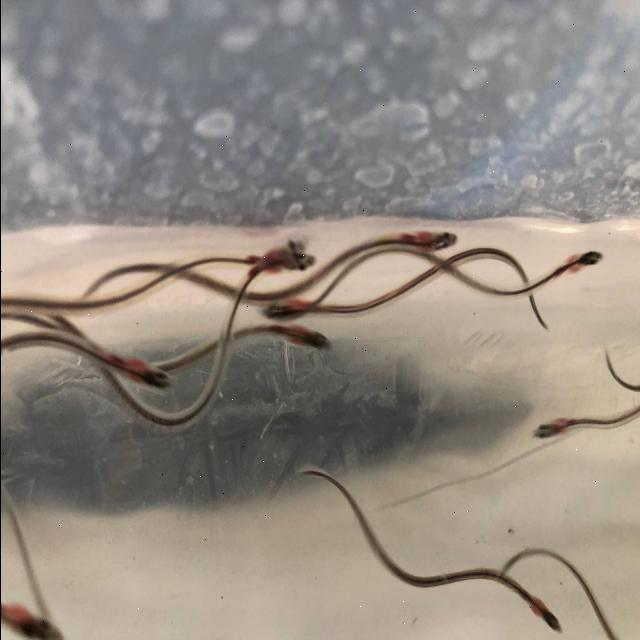glass_eel: (256, 286, 322, 354), (124, 338, 182, 410), (245, 226, 311, 278), (521, 398, 589, 447), (548, 242, 616, 288), (522, 585, 578, 640), (0, 594, 64, 640), (271, 321, 337, 358), (405, 220, 462, 262), (264, 242, 324, 280)
